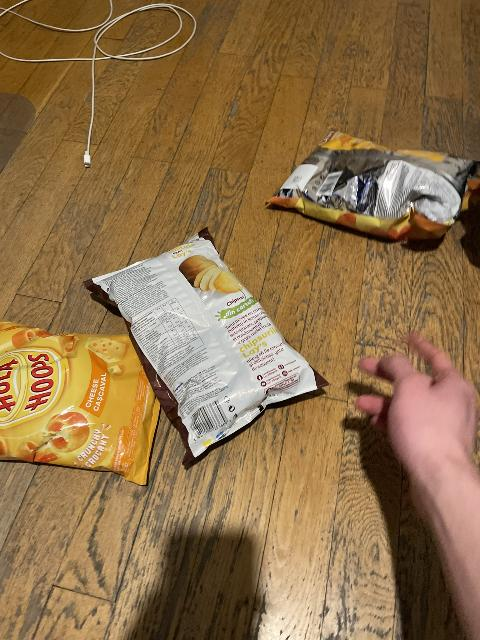Chio Cascaval 125g: (267, 126, 479, 242)
Chio Hula Hoops Cheese 70g: (0, 329, 159, 486)
Lays Beef Grilled Ribs 125g: (80, 225, 331, 469)
